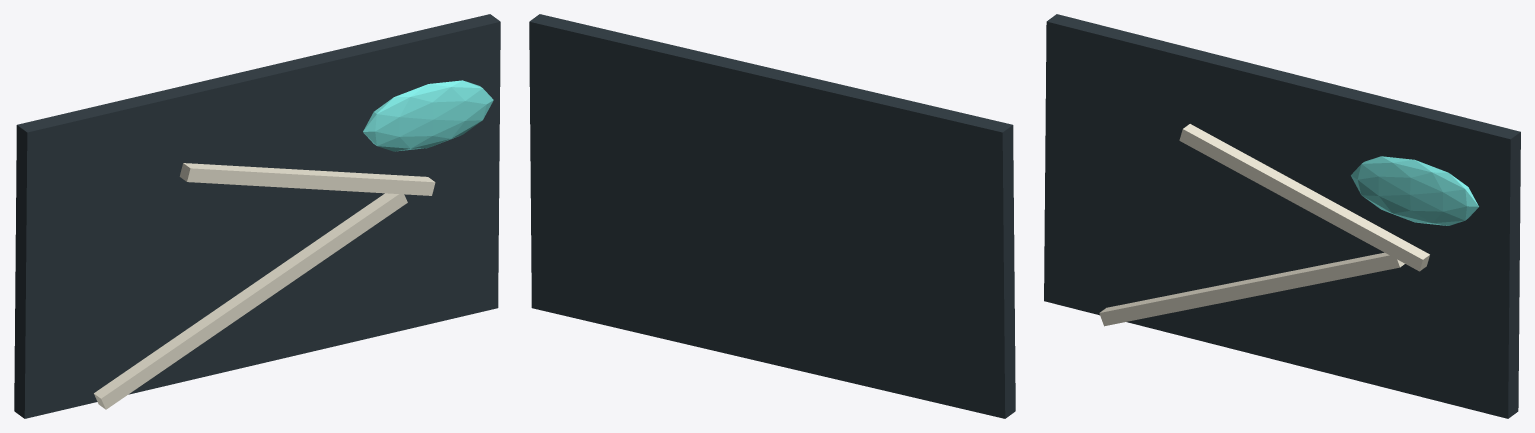
Rendered from 04_weathering_wear_overlay_4.glb.
3 renders of one model, left to right at view 1: azimuth 30°, elevation 25°; view 2: azimuth 150°, elevation 25°; view 3: azimuth 330°, elevation 25°, orthographic.
Parts seen in each view (by area): view 1: wear_plate, scratch_a, rust_or_moss_spot, scratch_b; view 2: wear_plate; view 3: wear_plate, rust_or_moss_spot, scratch_b, scratch_a.
Boxes of the visible parts, x1,y1,x2,y2 form: wear_plate: (14, 14, 500, 418); scratch_a: (94, 193, 407, 409); rust_or_moss_spot: (363, 80, 493, 151); scratch_b: (179, 163, 435, 195); wear_plate: (529, 14, 1015, 418); wear_plate: (1044, 14, 1520, 418); rust_or_moss_spot: (1351, 156, 1478, 225); scratch_b: (1179, 124, 1429, 271); scratch_a: (1099, 252, 1404, 326).
Size of the model in its own units: 1.31 by 0.7622 by 0.134.
